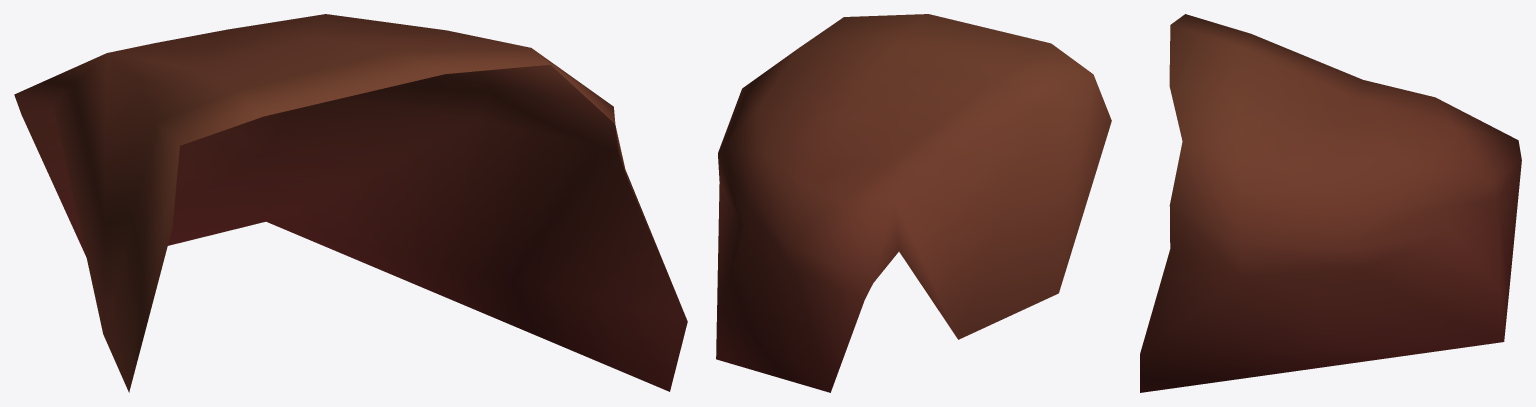
Rendered from Mountain_big.033.fbx.
3 views of the same model, side by side, from view 1: azimuth 30°, elevation 25°; view 2: azimuth 150°, elevation 25°; view 3: azimuth 270°, elevation 25° (orthographic). The views are drawn at different scales.
Visible parts, largest first — view 1: Mountain_big.033; view 2: Mountain_big.033; view 3: Mountain_big.033.
Boxes of the visible parts, x1=… form: Mountain_big.033: x1=14, y1=14, x2=687, y2=392; Mountain_big.033: x1=716, y1=14, x2=1111, y2=392; Mountain_big.033: x1=1140, y1=14, x2=1521, y2=392.
Size of the model in its own units: 160 by 108 by 156.
